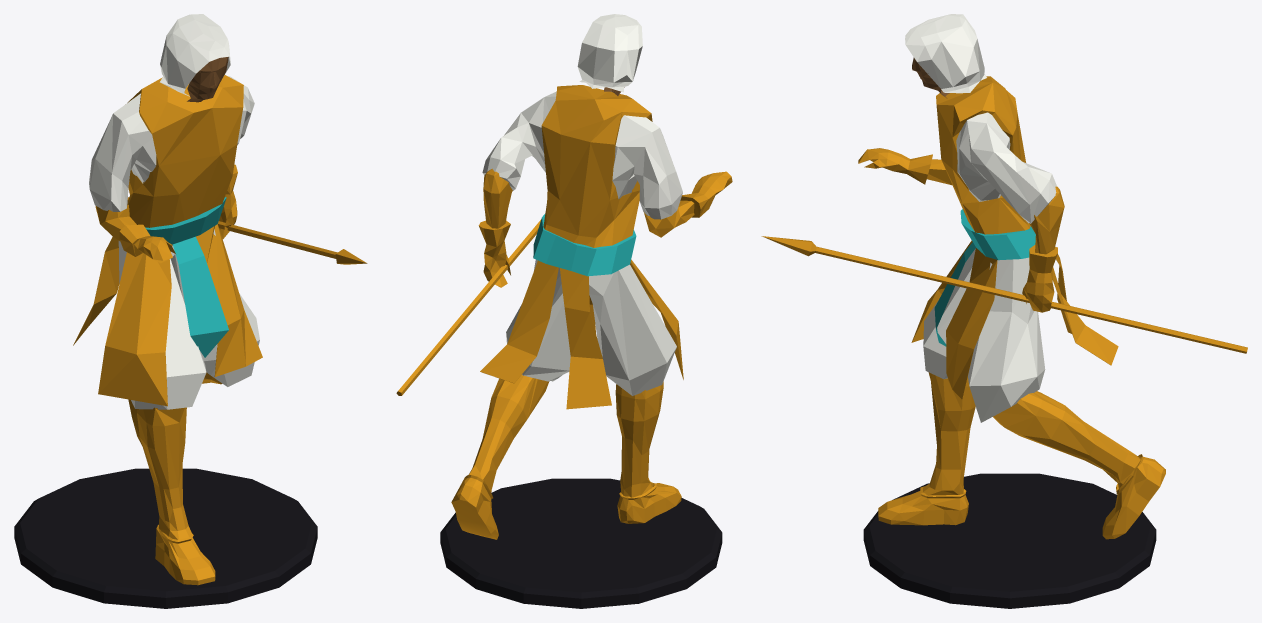
File: Runner(Bizanci).FBX
3 views of the same model, side by side, from view 1: azimuth 30°, elevation 25°; view 2: azimuth 150°, elevation 25°; view 3: azimuth 270°, elevation 25° (orthographic). The views are drawn at different scales.
Parts seen in each view (by area): view 1: Cylinder001; view 2: Cylinder001; view 3: Cylinder001.
Part boxes in pixels (<box>): Cylinder001: <box>14,14,367,608</box>; Cylinder001: <box>396,14,732,608</box>; Cylinder001: <box>761,14,1247,608</box>.
Size of the model in its own units: 9.78 by 19.64 by 16.35.
